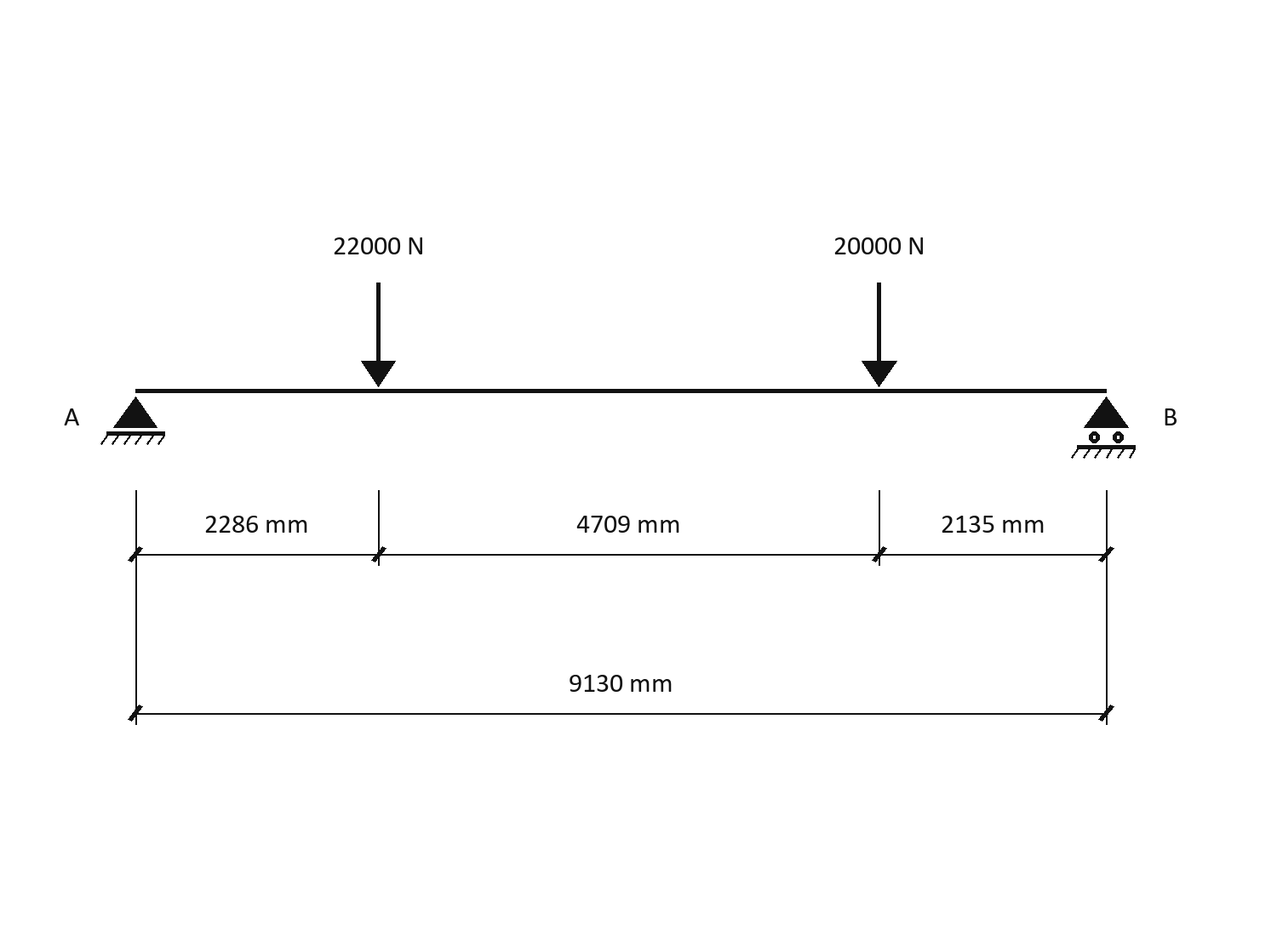pin_support: (100, 397, 165, 445)
point_load: (361, 283, 396, 387), (862, 283, 897, 387)
roller_support: (1071, 397, 1136, 459)
